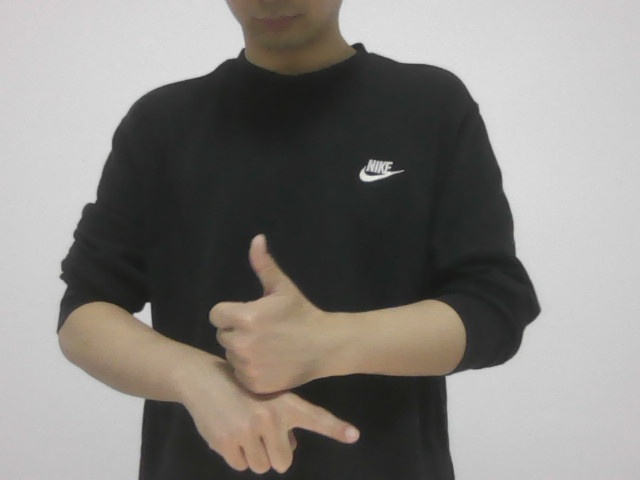birthday: (176, 221, 371, 474)
